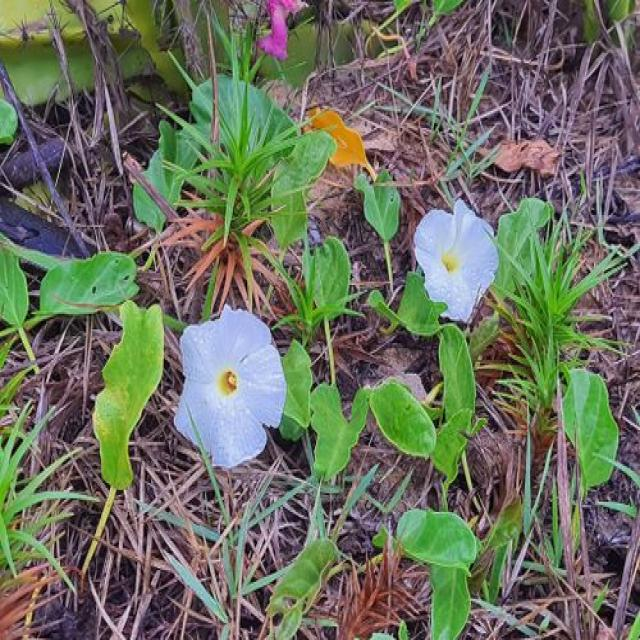ipomoea: (170, 302, 290, 473), (408, 196, 502, 328)
